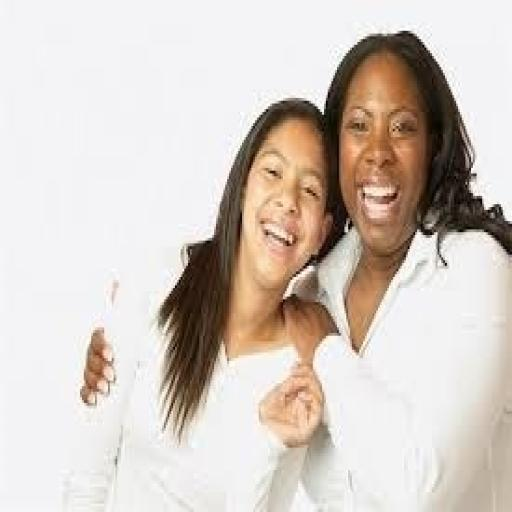hugging: (257, 28, 510, 509), (78, 92, 339, 510)
